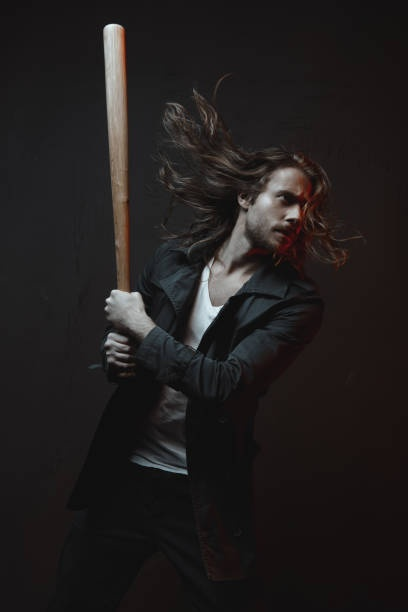bita: (102, 21, 133, 369)
